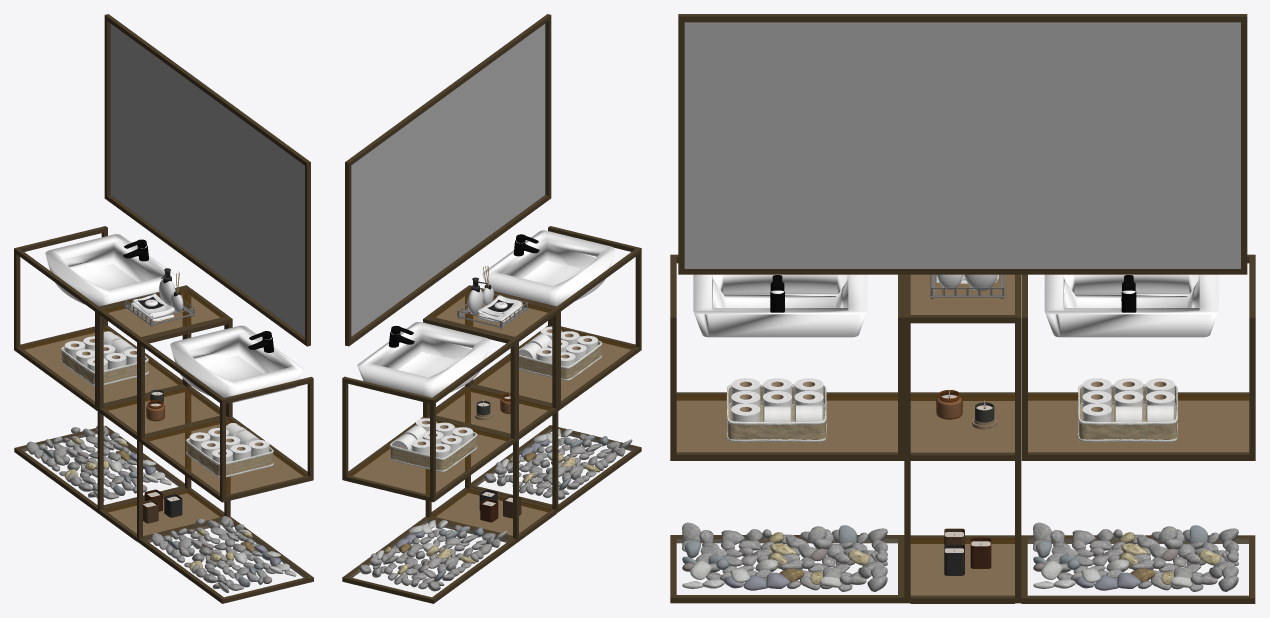
The model's file is ayra-anbr-bronze.glb.
3 renders of one model, left to right at view 1: azimuth 30°, elevation 25°; view 2: azimuth 150°, elevation 25°; view 3: azimuth 270°, elevation 25°, orthographic. The views are drawn at different scales.
Visible parts, largest first — view 1: G-Object.054, _G-Object (Loose Mesh), G-Object.044, G-Object.043, 3DGeom~1 (C-3DGeom~1_Defintion).001, 3DGeom~1 (C-3DGeom~1_Defintion), _G-Object.048 (Loose Mesh), _G-Object.030 (Loose Mesh), G-Object.022, G-Object.017, G-Object.089, G-Object.063 (+2 smaller); view 2: G-Object.054, _G-Object (Loose Mesh), G-Object.043, G-Object.044, 3DGeom~1 (C-3DGeom~1_Defintion), 3DGeom~1 (C-3DGeom~1_Defintion).001, _G-Object.030 (Loose Mesh), _G-Object.048 (Loose Mesh), G-Object.017, G-Object.022, G-Object.063, G-Object.089 (+2 smaller); view 3: G-Object.054, _G-Object (Loose Mesh), 3DGeom~1 (C-3DGeom~1_Defintion), 3DGeom~1 (C-3DGeom~1_Defintion).001, G-Object.044, G-Object.043, _G-Object.048 (Loose Mesh), _G-Object.030 (Loose Mesh), G-Object.017, G-Object.022, G-Object.062, G-Object.088.
Part boxes in pixels (<box>): G-Object.054: <box>14,14,313,603</box>; _G-Object (Loose Mesh): <box>104,290,223,535</box>; G-Object.044: <box>170,325,303,402</box>; G-Object.043: <box>45,234,178,306</box>; 3DGeom~1 (C-3DGeom~1_Defintion).001: <box>151,516,296,592</box>; 3DGeom~1 (C-3DGeom~1_Defintion): <box>26,426,171,500</box>; _G-Object.048 (Loose Mesh): <box>145,418,307,495</box>; _G-Object.030 (Loose Mesh): <box>21,327,181,402</box>; G-Object.022: <box>147,523,305,596</box>; G-Object.017: <box>22,432,180,504</box>; G-Object.089: <box>186,440,247,476</box>; G-Object.063: <box>61,347,122,384</box>; G-Object.054: <box>342,14,641,603</box>; _G-Object (Loose Mesh): <box>432,289,551,535</box>; G-Object.043: <box>357,322,490,397</box>; G-Object.044: <box>482,230,615,306</box>; 3DGeom~1 (C-3DGeom~1_Defintion): <box>358,520,507,591</box>; 3DGeom~1 (C-3DGeom~1_Defintion).001: <box>483,429,632,499</box>; _G-Object.030 (Loose Mesh): <box>349,418,510,494</box>; _G-Object.048 (Loose Mesh): <box>473,328,635,402</box>; G-Object.017: <box>350,520,508,596</box>; G-Object.022: <box>475,429,633,503</box>; G-Object.063: <box>416,434,476,470</box>; G-Object.089: <box>541,343,601,379</box>; G-Object.054: <box>670,14,1255,603</box>; _G-Object (Loose Mesh): <box>910,274,1014,595</box>; 3DGeom~1 (C-3DGeom~1_Defintion): <box>1033,522,1238,591</box>; 3DGeom~1 (C-3DGeom~1_Defintion).001: <box>682,522,887,591</box>; G-Object.044: <box>693,274,867,337</box>; G-Object.043: <box>1044,274,1218,337</box>; _G-Object.048 (Loose Mesh): <box>676,395,897,452</box>; _G-Object.030 (Loose Mesh): <box>1028,395,1249,452</box>; G-Object.017: <box>1028,538,1248,594</box>; G-Object.022: <box>677,539,897,594</box>; G-Object.062: <box>1078,420,1177,441</box>; G-Object.088: <box>727,420,826,441</box>.
Size of the model in its own units: 0.4707 by 2.05 by 1.85.
36 materials, 17 textured.
